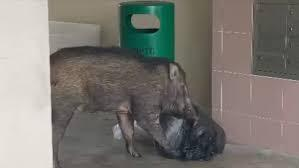wildboar: (50, 45, 201, 168)
